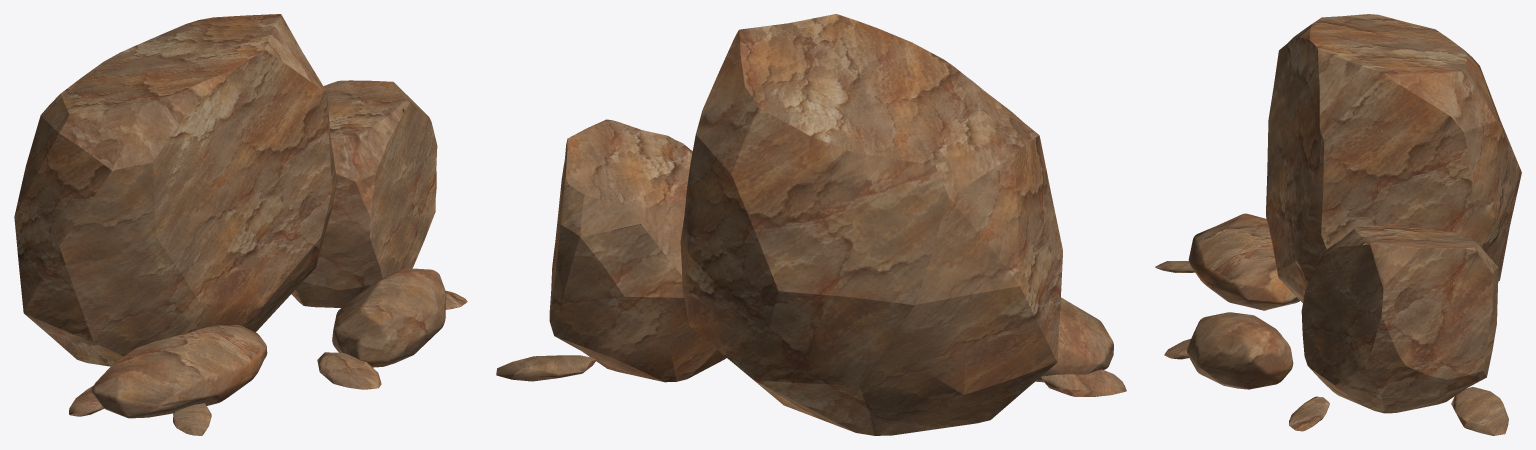
The model's file is sandstone_formation.glb.
3 views of the same model, side by side, from view 1: azimuth 30°, elevation 25°; view 2: azimuth 150°, elevation 25°; view 3: azimuth 270°, elevation 25° (orthographic). The views are drawn at different scales.
Visible parts, largest first — view 1: Basin sandstone formation; view 2: Basin sandstone formation; view 3: Basin sandstone formation.
Boxes of the visible parts, bbox=[...] form: Basin sandstone formation: bbox=[14, 14, 467, 435]; Basin sandstone formation: bbox=[496, 14, 1126, 435]; Basin sandstone formation: bbox=[1155, 14, 1521, 435].
Size of the model in its own units: 3.36 by 2.18 by 2.51.
Materials: 1 (1 with a texture image).
